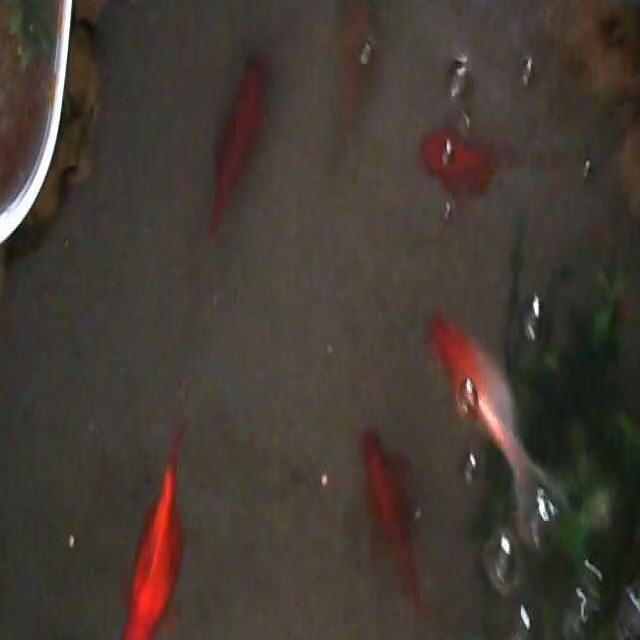fish: (432, 306, 562, 552), (121, 425, 188, 640), (359, 424, 425, 616), (208, 48, 270, 240), (418, 125, 514, 204), (337, 0, 381, 133)
